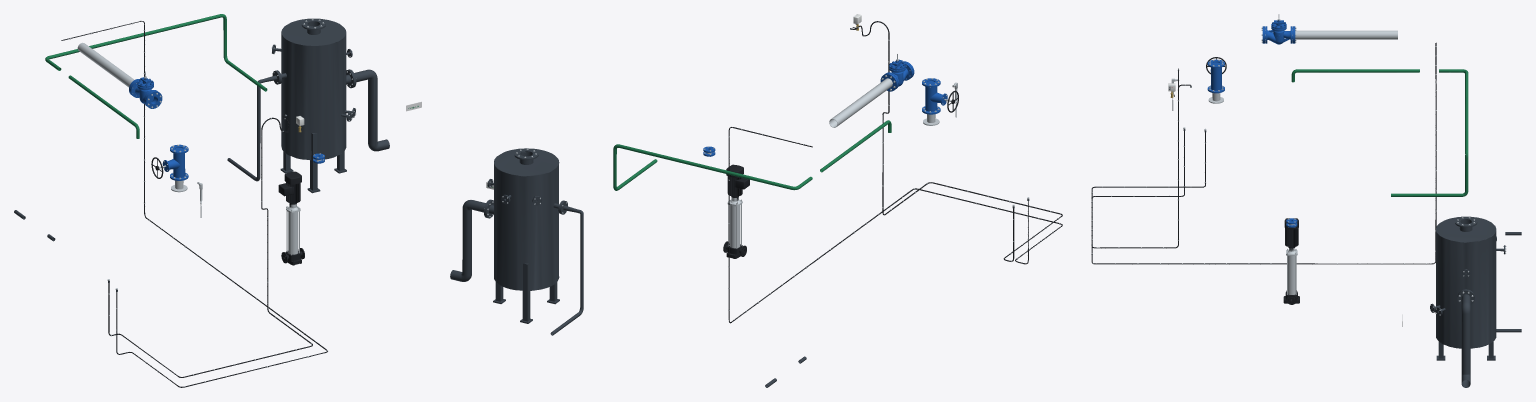
The model's file is s4000-3-murSmlJG.glb.
3 views of the same model, side by side, from view 1: azimuth 30°, elevation 25°; view 2: azimuth 150°, elevation 25°; view 3: azimuth 270°, elevation 25° (orthographic). The views are drawn at different scales.
Parts seen in each view (by area): view 1: separator_bdv60_5 / dark, to_direct / green, mod_direct_drive_cable / black, bdv_water_drain / dark, wiring_pressure_switch_3 / black, bottom_to_bdv / dark, steam_delivery / steel, steam_manual / blue, pump_1 CAD solid 15, gpz CAD solid 0, pump_1 CAD solid 2, direct_inlet / green; view 2: separator_bdv60_5 / dark, mod_direct_drive_cable / black, to_direct / green, bdv_water_drain / dark, wiring_pressure_switch_3 / black, steam_delivery / steel, bottom_to_bdv / dark, steam_manual / blue, pump_1 CAD solid 15; view 3: separator_bdv60_5 / dark, mod_direct_drive_cable / black, bdv_water_drain / dark, steam_delivery / steel, to_direct / green, wiring_pressure_switch_3 / black, direct_inlet / green, gpz CAD solid 0, steam_manual / blue.
Part boxes in pixels (<box>): separator_bdv60_5 / dark: <box>272,18,355,193</box>; to_direct / green: <box>45,14,267,91</box>; mod_direct_drive_cable / black: <box>61,21,327,387</box>; bdv_water_drain / dark: <box>348,69,389,151</box>; wiring_pressure_switch_3 / black: <box>108,115,312,377</box>; bottom_to_bdv / dark: <box>227,70,280,181</box>; steam_delivery / steel: <box>77,42,134,87</box>; steam_manual / blue: <box>162,144,188,180</box>; pump_1 CAD solid 15: <box>278,171,301,203</box>; gpz CAD solid 0: <box>130,71,156,105</box>; pump_1 CAD solid 2: <box>288,212,298,254</box>; direct_inlet / green: <box>68,75,139,138</box>; separator_bdv60_5 / dark: <box>485,148,563,323</box>; mod_direct_drive_cable / black: <box>728,127,1062,323</box>; to_direct / green: <box>613,144,812,190</box>; bdv_water_drain / dark: <box>450,199,491,281</box>; wiring_pressure_switch_3 / black: <box>851,21,1062,261</box>; steam_delivery / steel: <box>829,78,892,127</box>; bottom_to_bdv / dark: <box>550,200,583,335</box>; steam_manual / blue: <box>922,78,947,114</box>; pump_1 CAD solid 15: <box>726,164,749,197</box>; separator_bdv60_5 / dark: <box>1430,216,1505,360</box>; mod_direct_drive_cable / black: <box>1091,42,1436,264</box>; bdv_water_drain / dark: <box>1457,290,1474,387</box>; steam_delivery / steel: <box>1295,30,1397,39</box>; to_direct / green: <box>1391,69,1468,196</box>; wiring_pressure_switch_3 / black: <box>1091,68,1205,248</box>; direct_inlet / green: <box>1291,69,1419,82</box>; gpz CAD solid 0: <box>1265,14,1292,44</box>; steam_manual / blue: <box>1207,59,1224,93</box>.
Size of the model in its own units: 5.75 by 3.18 by 5.43.
